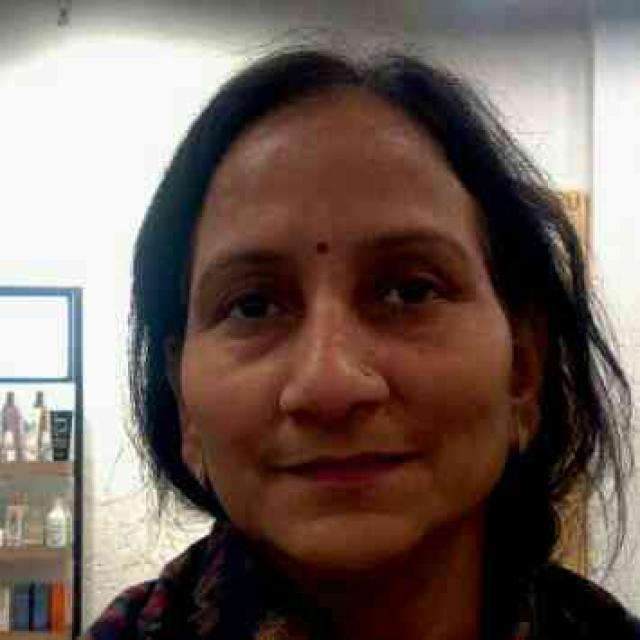puffy_eyes: (231, 317, 308, 366), (349, 307, 440, 344)
